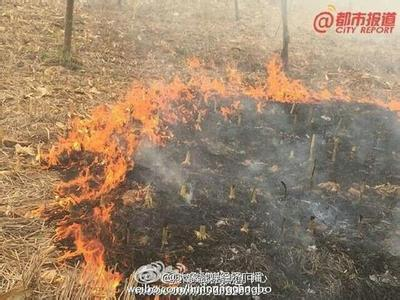fire: (48, 46, 254, 297), (262, 55, 398, 113)
